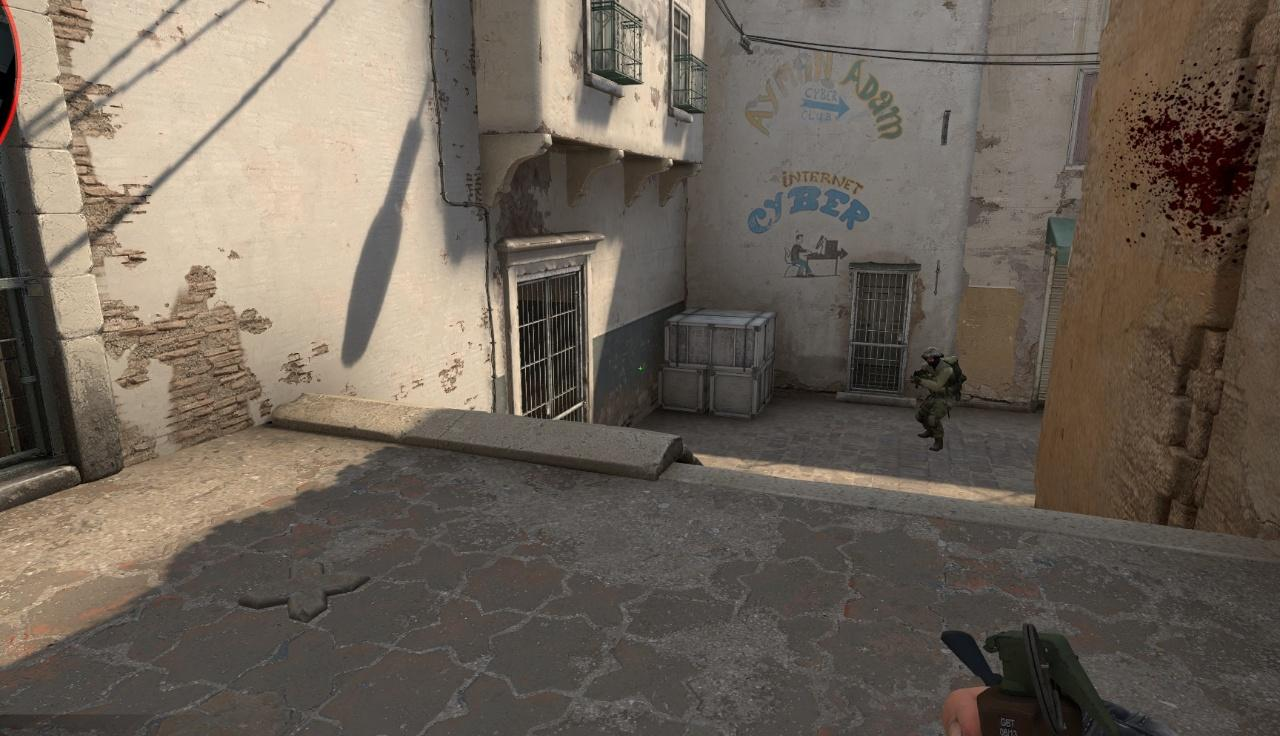ct: (915, 347, 961, 451)
cthead: (925, 348, 940, 367)
